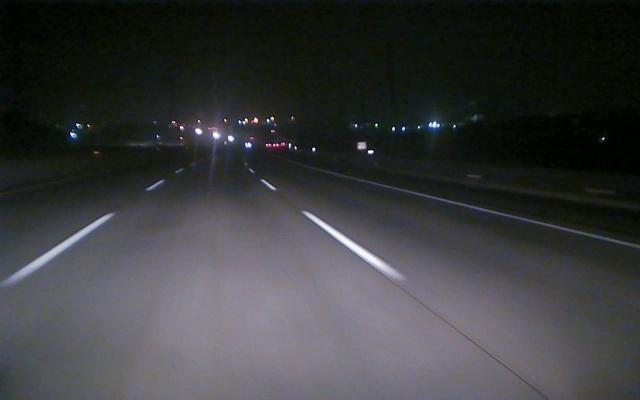lane: (354, 178, 637, 249), (3, 181, 160, 286), (260, 179, 405, 281)
